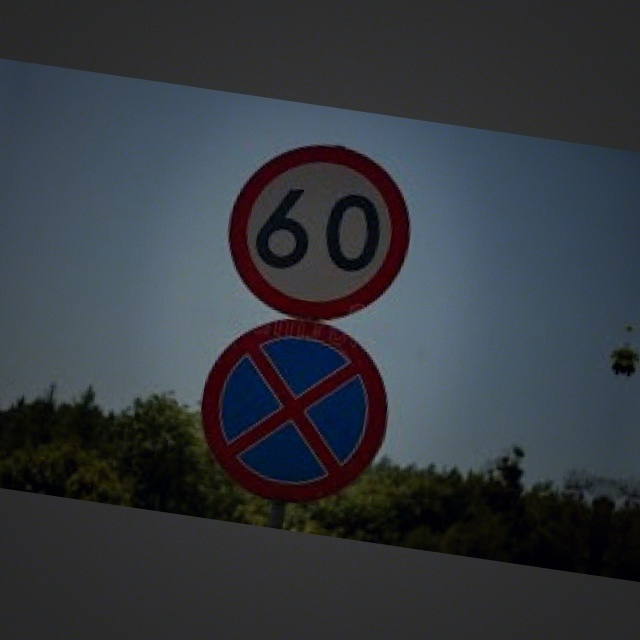Speed_Limit_60: (222, 133, 418, 332)
